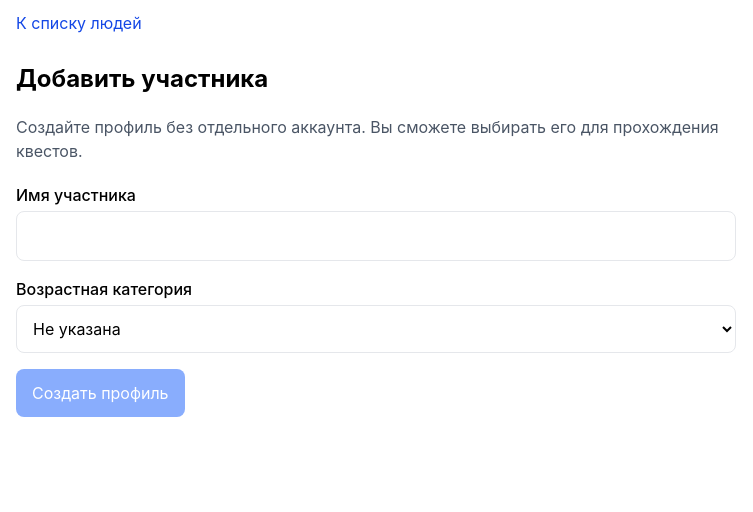
it: после подтверждённого серверного отказа сохраняет имя и разрешает исправление
In the field labelled "Имя участника": (376, 236) [16,211,736,261], type " Новый участник "
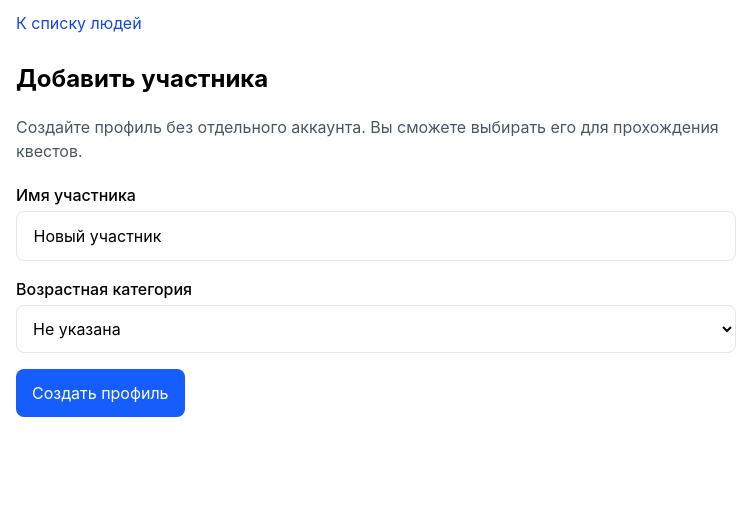
Submit the form "Создать профиль", box [16,183,736,417]
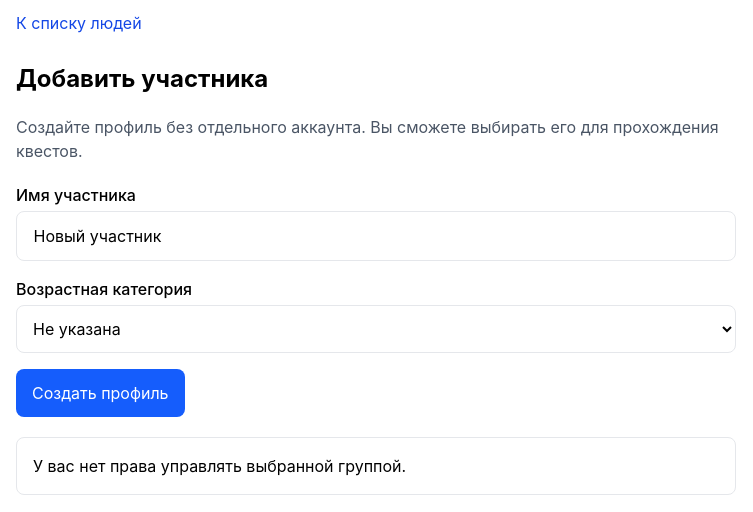
Expected: the button "Создать профиль" is enabled, [16,369,184,417]
Expected: the message shows "У вас нет права", [33,456,406,476]
